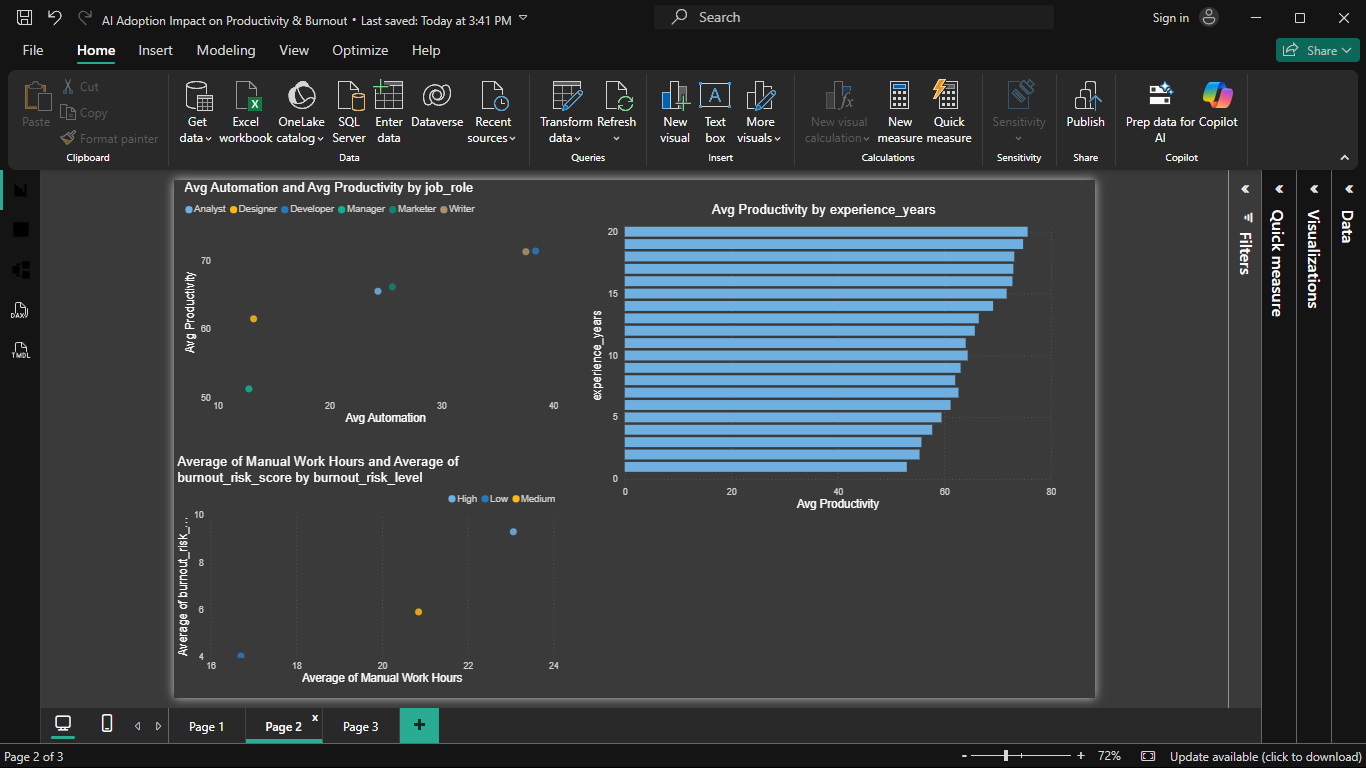

Layout of this report page (visuals, bound fields, positions):
{"tool":"powerbi","page":{"name":"Page 2","canvas":[1280,720],"ordinal":1},"visuals":[{"type":"scatterChart","fields":{"X":["ai_productivity and tools usage.Avg Automation"],"Series":["ai_productivity and tools usage.job_role"],"Y":["ai_productivity and tools usage.Avg Productivity"]},"box":[10.1,0,529,344.9],"z":0},{"type":"scatterChart","fields":{"X":["Avg(ai_productivity and tools usage.Manual Work Hours)"],"Series":["ai_productivity and tools usage.burnout_risk_level"],"Y":["Avg(ai_productivity and tools usage.burnout_risk_score)"]},"box":[0,381.2,539.1,324.6],"z":1000},{"type":"clusteredBarChart","fields":{"Category":["ai_productivity and tools usage.experience_years"],"Y":["ai_productivity and tools usage.Avg Productivity"]},"box":[575.4,30.4,655.1,433.3],"z":2000}]}

Visuals, with their boxes on the page's 1280x720 design canvas (x1, y1, x2, y2). These are canvas units, not pixel positions in the 1366x768 screenshot, which may show the page scaled, cropped or inside an application window:
scatterChart - ai_productivity and tools usage.Avg Automation x ai_productivity and tools usage.job_role: region(10, 0, 539, 345)
scatterChart - Avg(ai_productivity and tools usage.Manual Work Hours) x ai_productivity and tools usage.burnout_risk_level: region(0, 381, 539, 706)
clusteredBarChart - ai_productivity and tools usage.experience_years x ai_productivity and tools usage.Avg Productivity: region(575, 30, 1230, 464)
